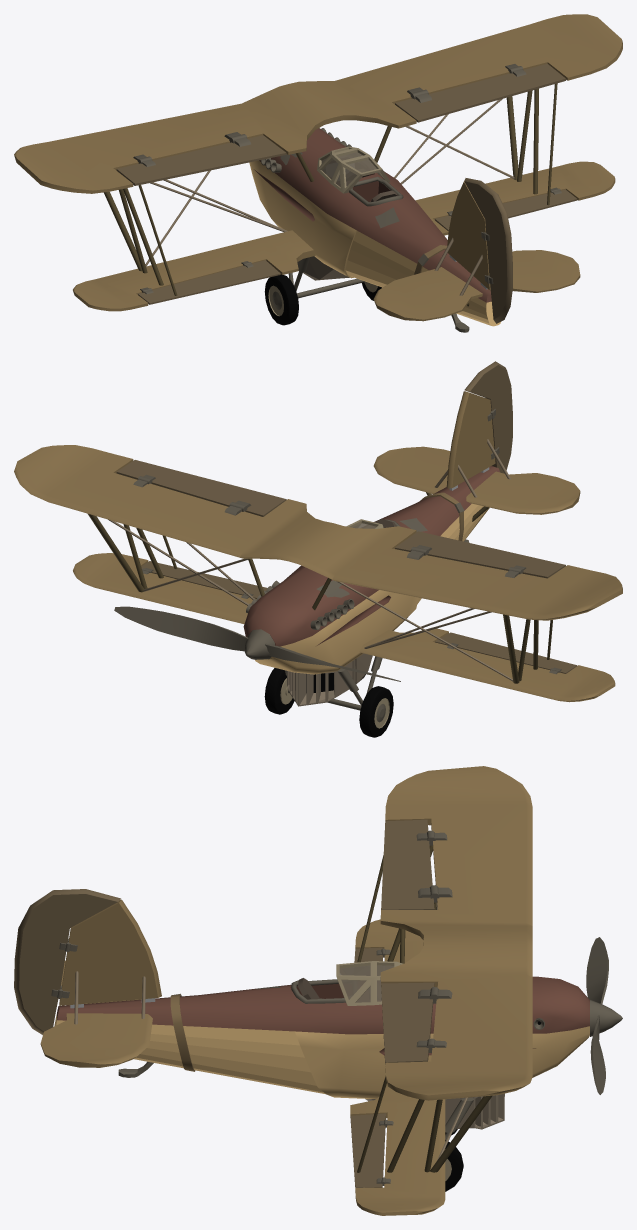
3 renders of one model, top to bottom at view 1: azimuth 30°, elevation 25°; view 2: azimuth 150°, elevation 25°; view 3: azimuth 270°, elevation 25°, orthographic. The views are drawn at different scales.
Parts seen in each view (by area): view 1: polySurface1, polySurface3, polySurface2, pCube12, pCube3, pCube2, pCylinder11, polySurface4, pCylinder16, pCylinder17, pCylinder18, pCylinder19 (+5 smaller); view 2: polySurface1, polySurface2, polySurface3, pCube12, pCube2, pCylinder11, pCube9, pCube3, pCube4, pCylinder17, pCylinder29, pCube8 (+4 smaller); view 3: polySurface1, polySurface3, polySurface2, pCube2, pCube3, pCube12, polySurface4, pCube4, pCube8, pCylinder19, pCylinder55, pCube9 (+4 smaller).
Boxes of the visible parts, x1,y1,x2,y2 form: polySurface1: [14, 14, 622, 193]; polySurface3: [249, 128, 500, 326]; polySurface2: [73, 161, 615, 311]; pCube12: [373, 250, 580, 321]; pCube3: [464, 178, 512, 323]; pCube2: [447, 181, 490, 290]; pCylinder11: [264, 274, 381, 325]; polySurface4: [317, 146, 390, 193]; pCylinder16: [123, 88, 538, 285]; pCylinder17: [103, 96, 518, 271]; pCylinder18: [119, 90, 532, 273]; pCylinder19: [138, 83, 557, 295]; polySurface1: [14, 445, 622, 620]; polySurface2: [73, 553, 615, 702]; polySurface3: [243, 466, 499, 674]; pCube12: [373, 446, 580, 514]; pCube2: [446, 391, 495, 488]; pCylinder11: [264, 668, 393, 737]; pCube9: [114, 606, 248, 651]; pCube3: [464, 361, 512, 473]; pCube4: [287, 653, 372, 706]; pCylinder17: [88, 514, 519, 683]; pCylinder29: [143, 558, 513, 681]; pCube8: [265, 643, 400, 681]; polySurface1: [380, 766, 532, 1100]; polySurface3: [54, 976, 589, 1098]; polySurface2: [350, 919, 445, 1215]; pCube2: [59, 899, 161, 1005]; pCube3: [14, 889, 120, 1034]; pCube12: [40, 960, 152, 1067]; polySurface4: [336, 961, 403, 1005]; pCube4: [365, 1093, 504, 1129]; pCube8: [586, 937, 608, 1003]; pCylinder19: [357, 855, 386, 1172]; pCylinder55: [170, 993, 195, 1071]; pCube9: [590, 1015, 605, 1094].
Bounding box in the file's own units: 0.1459 × 0.0579 × 0.1153.
